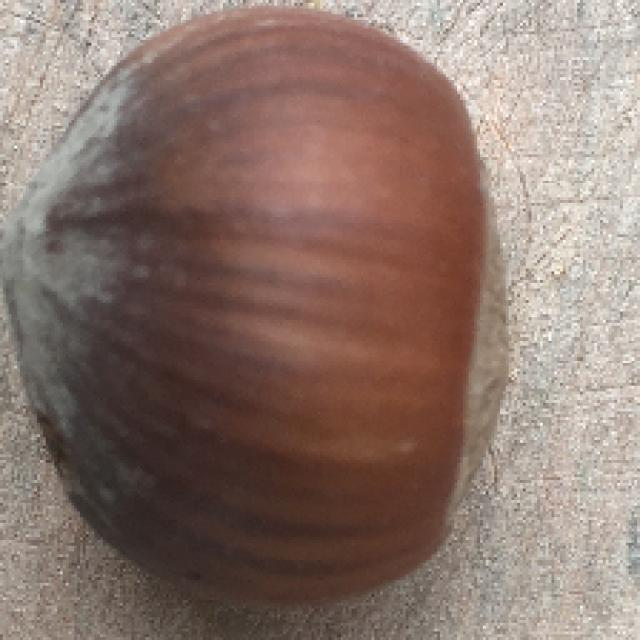damagedHazelnut: (13, 9, 519, 615)
